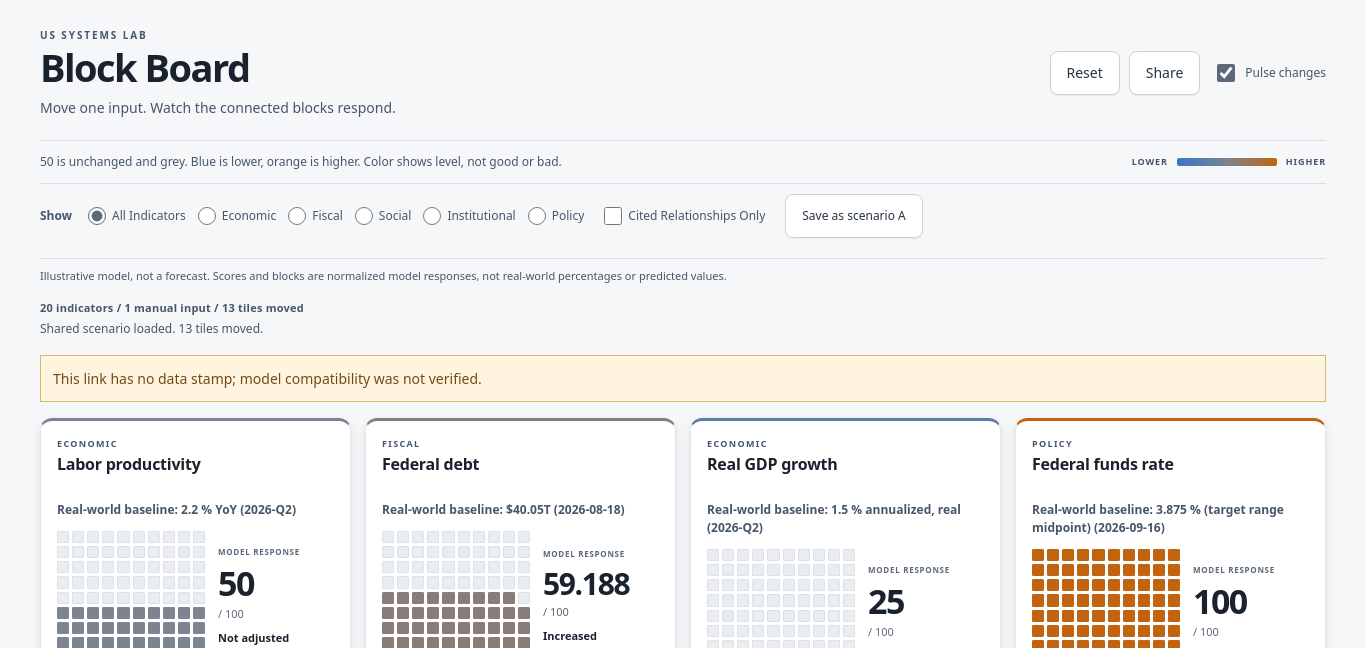
Test case: model transparency and analysis › compares with a saved scenario A held in memory only
Click the button "Save as scenario A". click: (854, 216)
box: top-left (785, 194), bottom-right (923, 238)
(page scrolled)
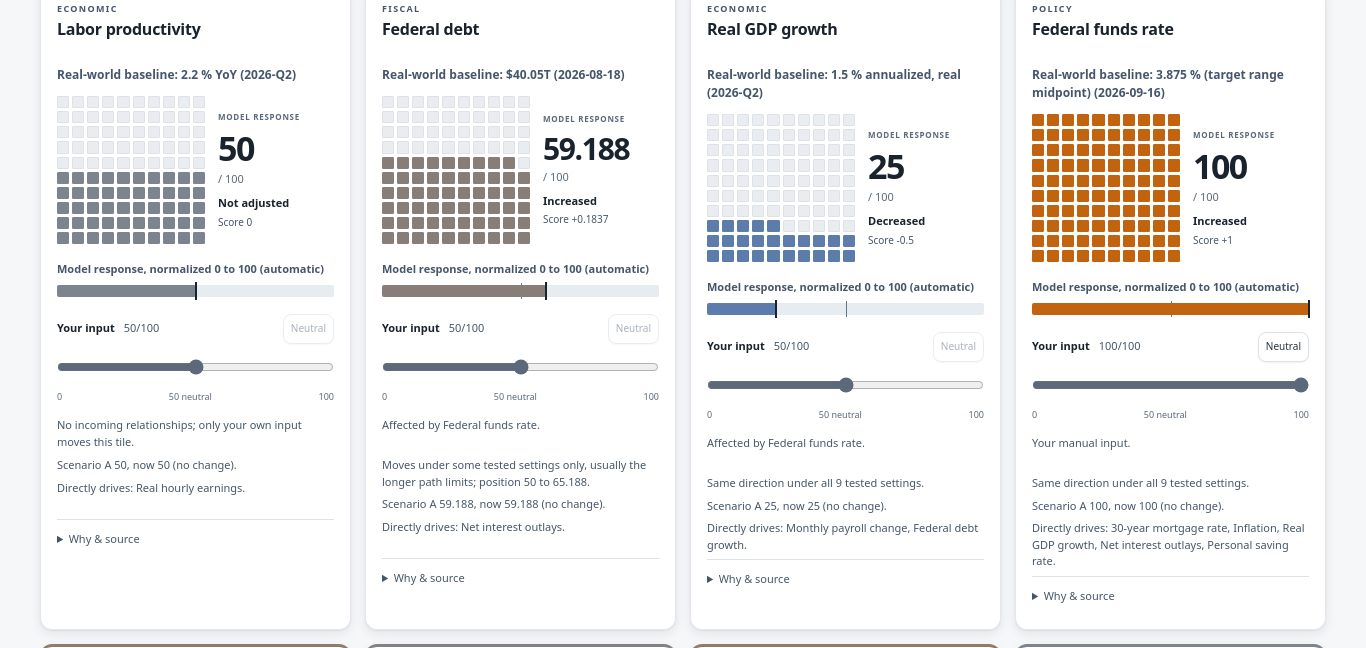
Set the slider labelled "Your input" below "100/100" to "50". click: (1170, 385)
box: top-left (1032, 363), bottom-right (1309, 407)
(page scrolled)
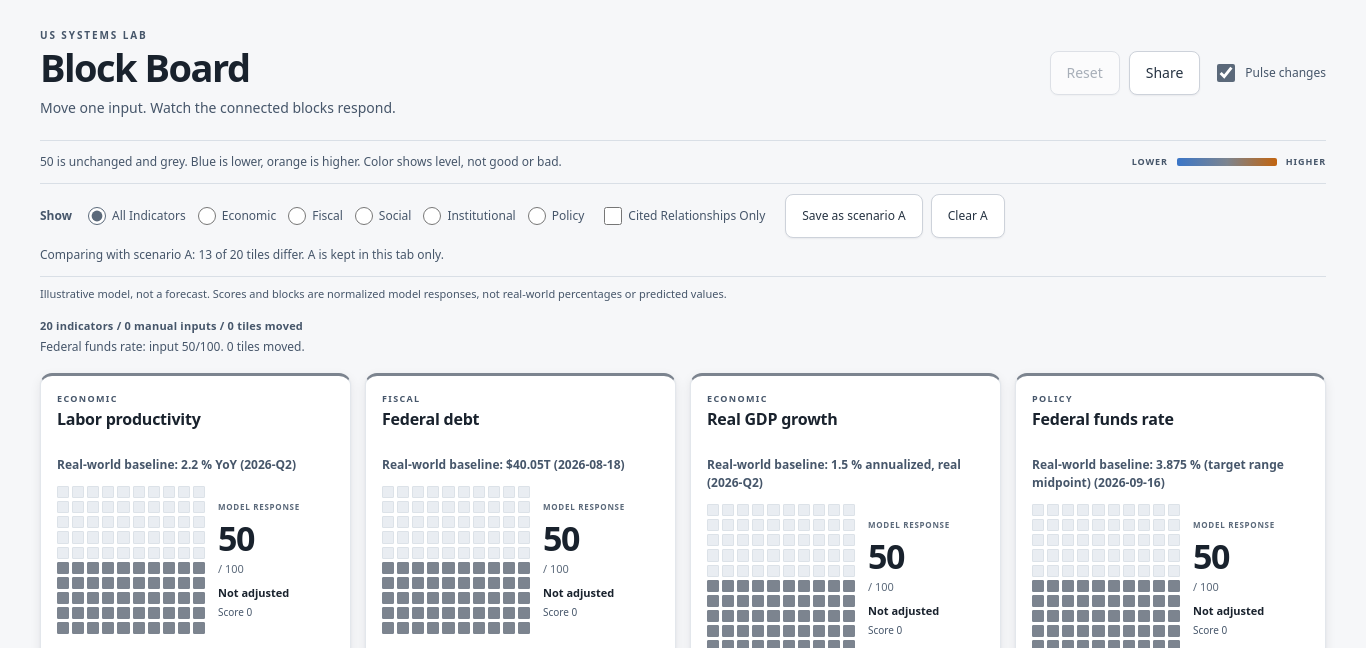
Click the button "Reset". click: (1085, 73)
box: top-left (1050, 51), bottom-right (1120, 95)
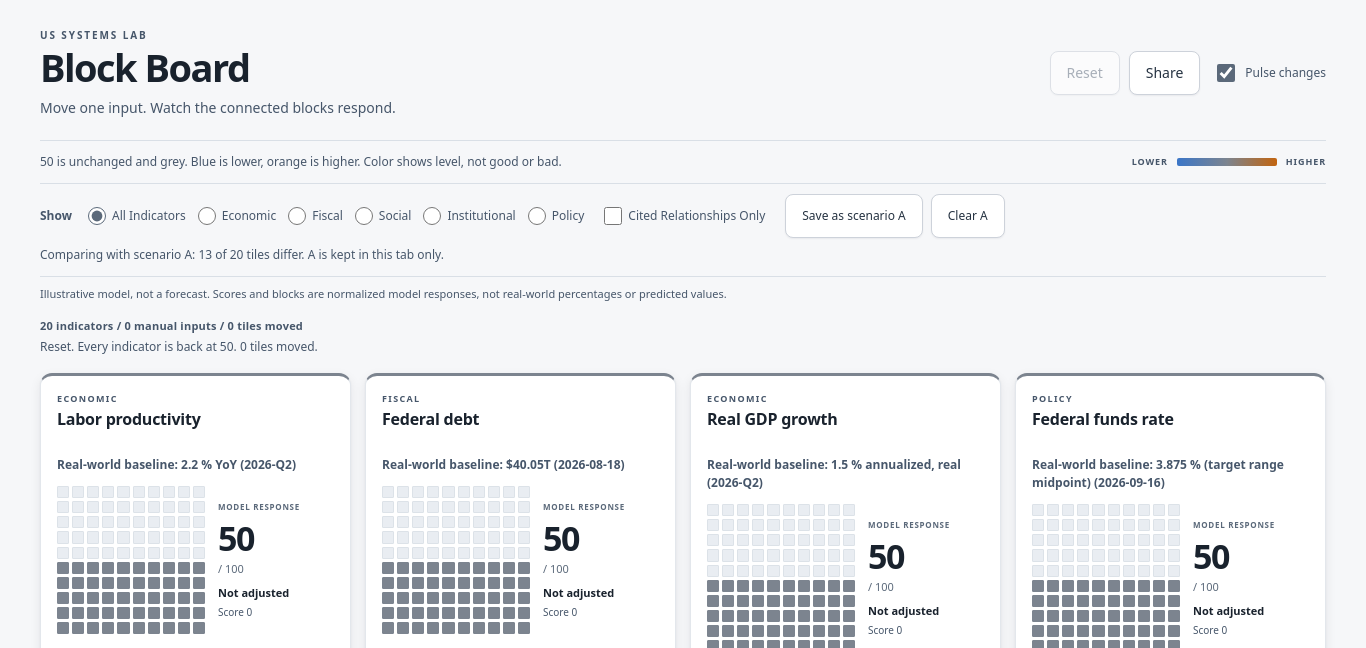
Click the button "Clear A". click: (968, 216)
box: top-left (931, 194), bottom-right (1005, 238)
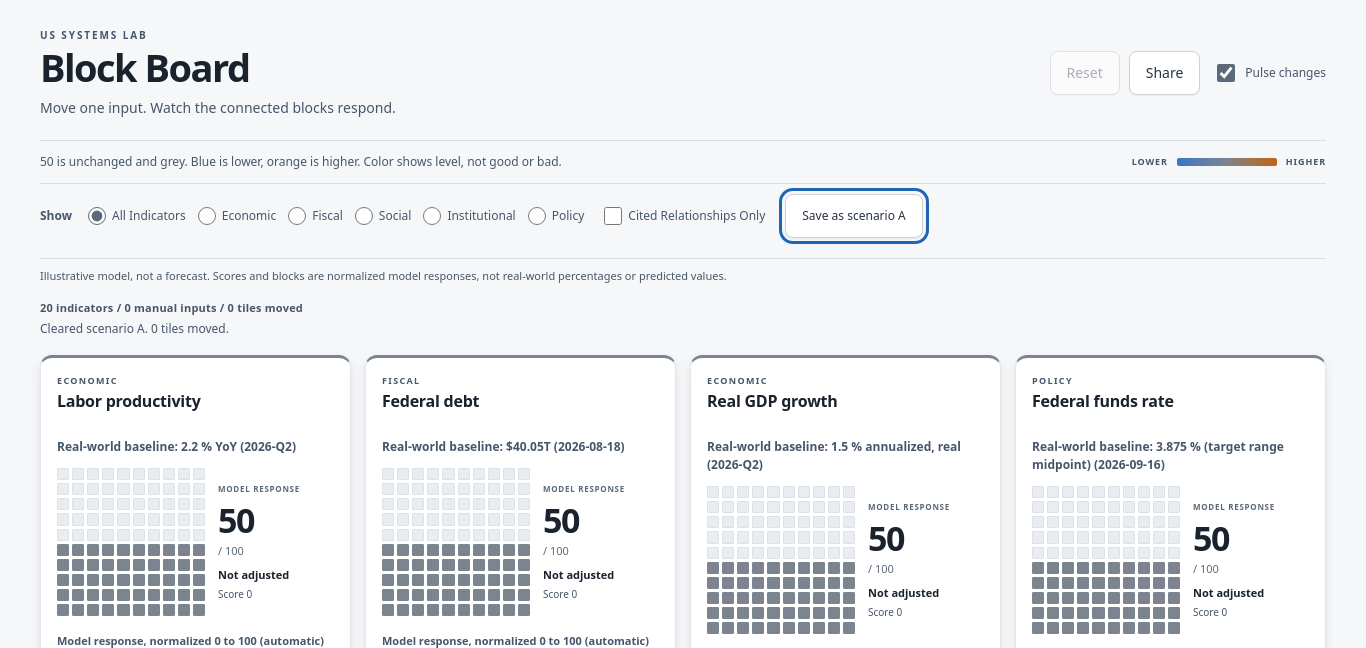
Check: the button "Clear A" is gone
